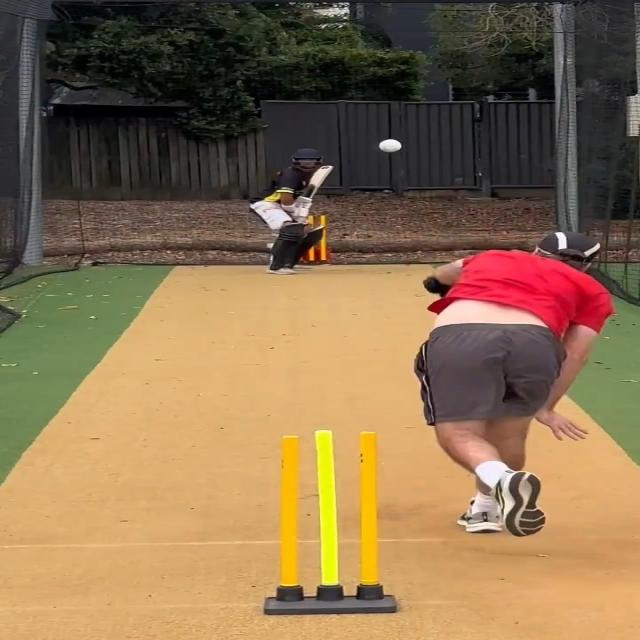ball: (376, 136, 404, 154)
stump: (261, 428, 399, 614)
